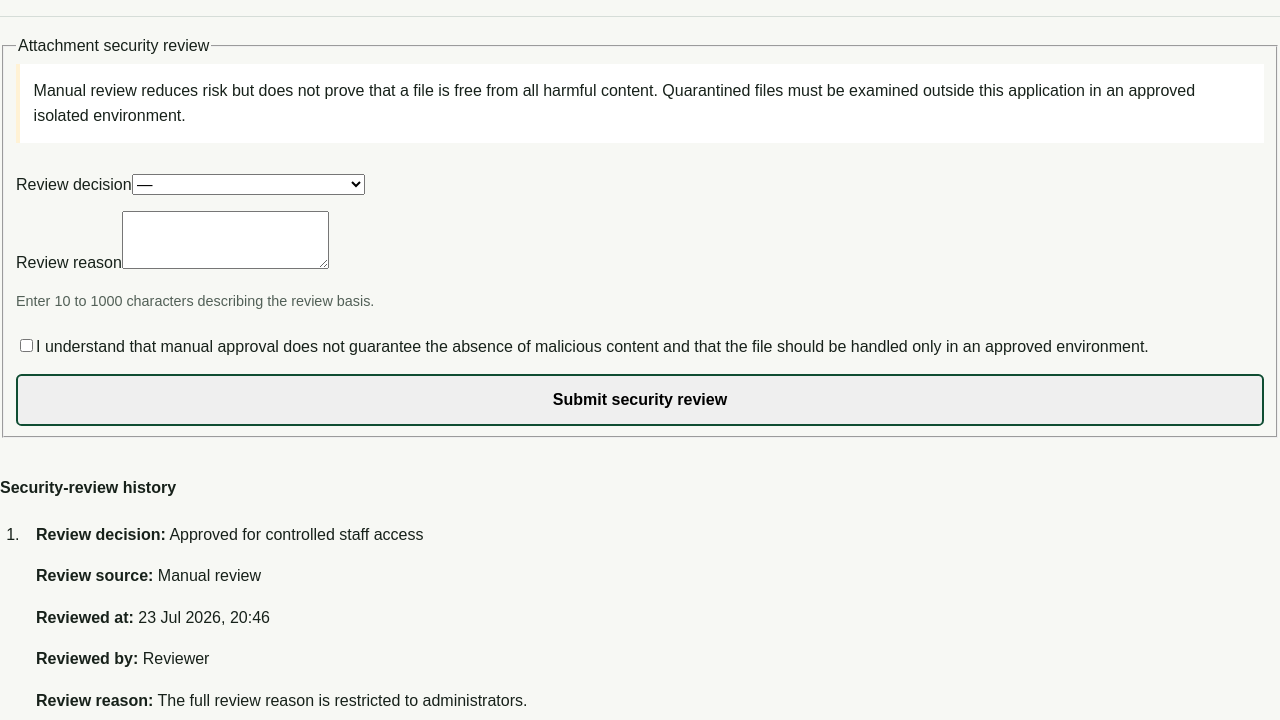
Test: attachment security-review UI › renders role-restricted history and a safe stale-version action
Expected: the text "The full review reason is restricted to administrators." is shown, [158, 692, 527, 709]
Select "Approve for controlled access" in the dropdown labelled "Review decision" at (248, 185), box [132, 174, 365, 195]
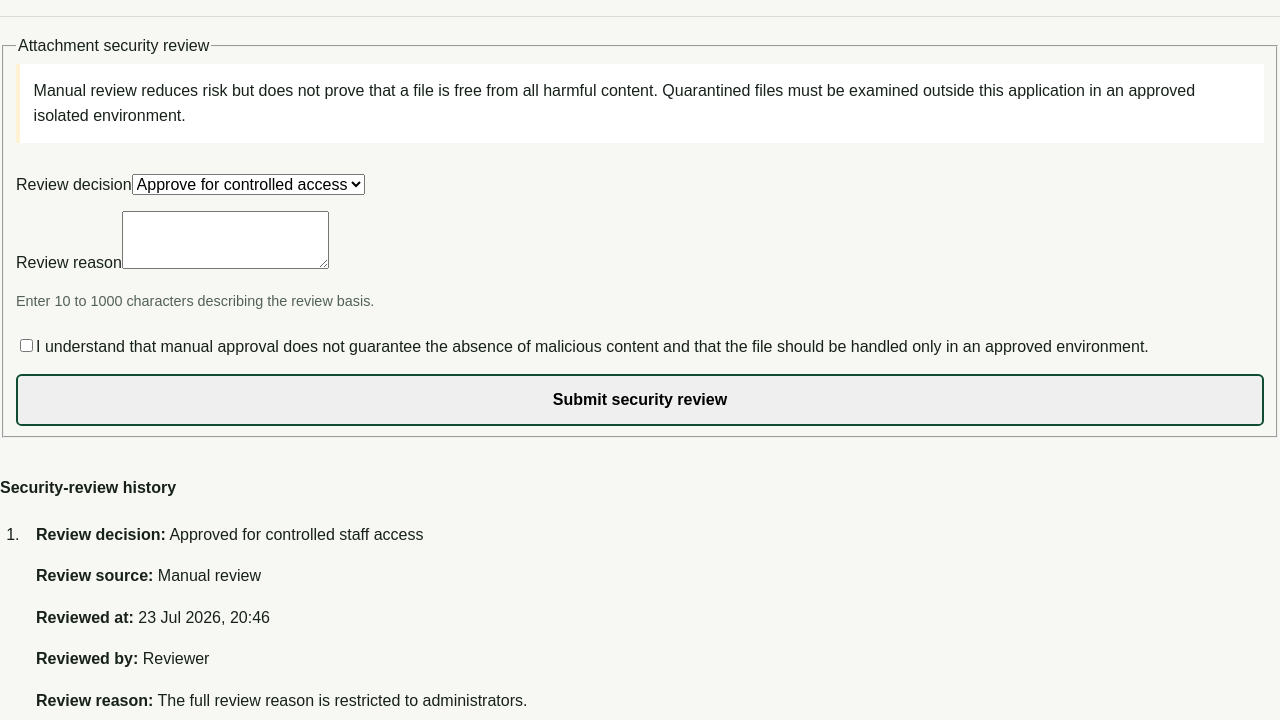
Type "Reviewed in an approved isolated environment." into the text box labelled "Review reason" at (225, 240), box [122, 211, 329, 268]
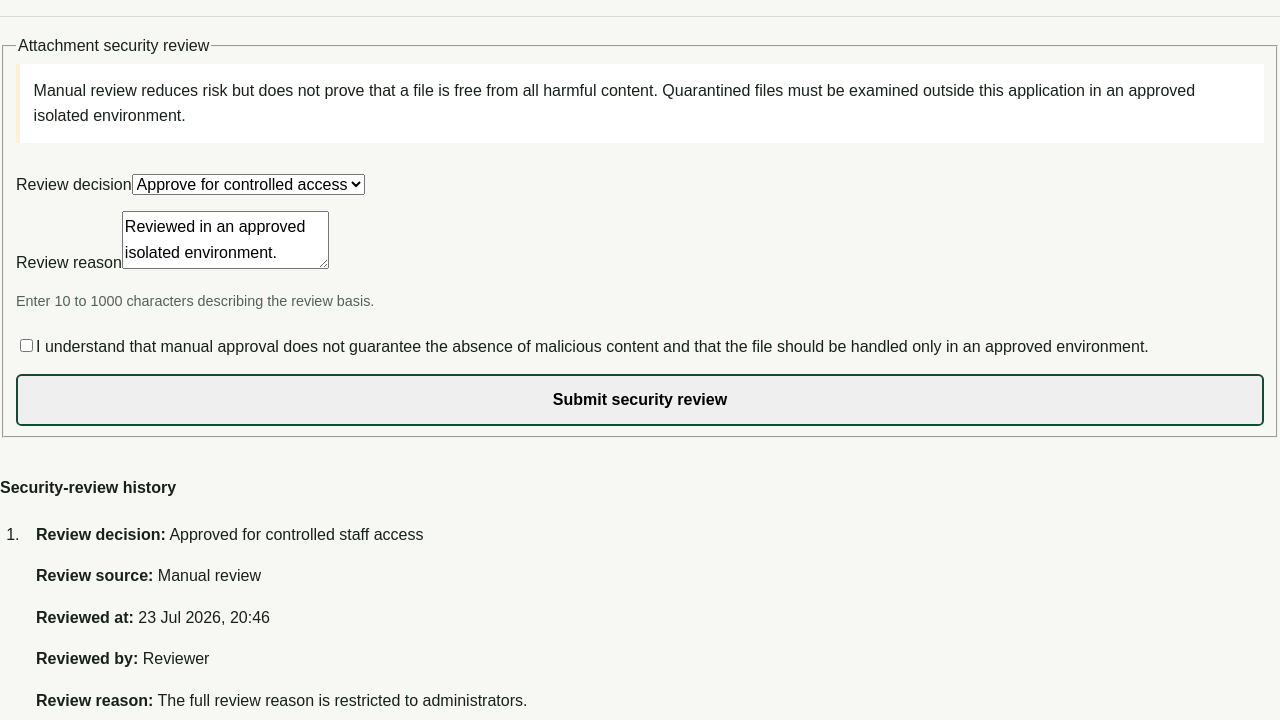
Click the checkbox labelled "manual approval does not guarantee" at (26, 346), box [20, 339, 33, 352]
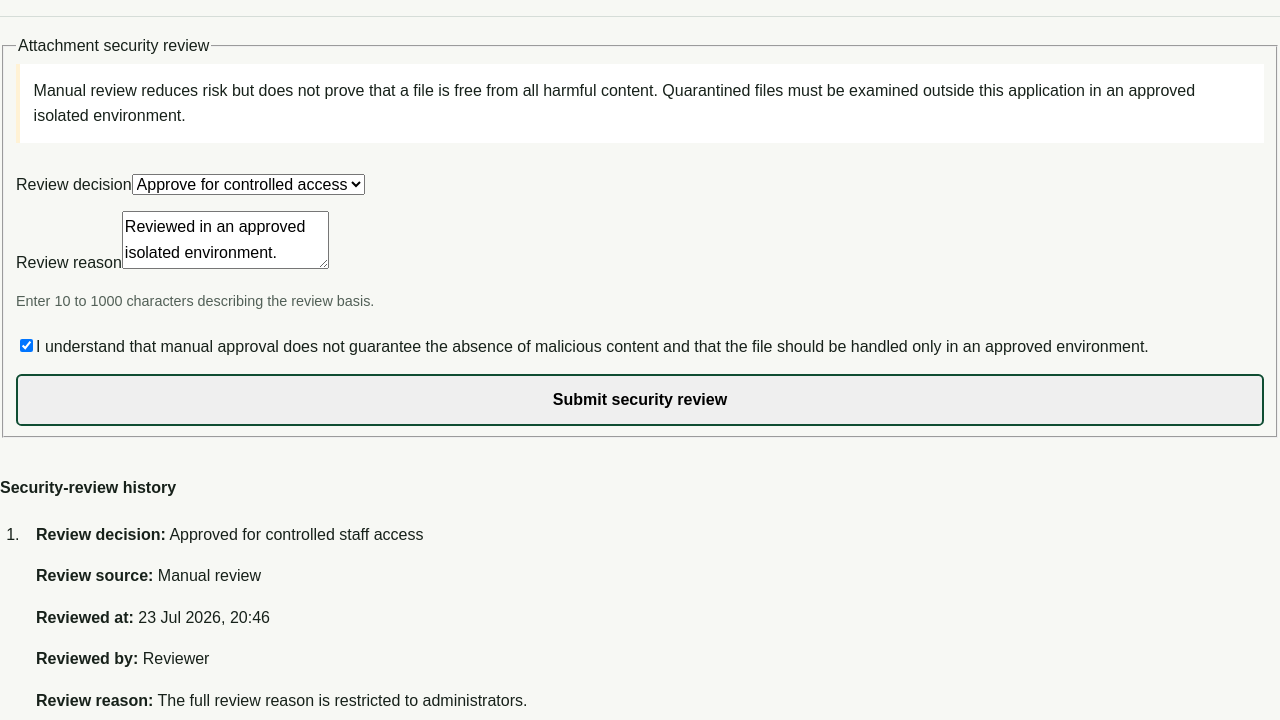
Click the button "Submit security review" at (640, 400), box [16, 374, 1264, 426]
(page scrolled)
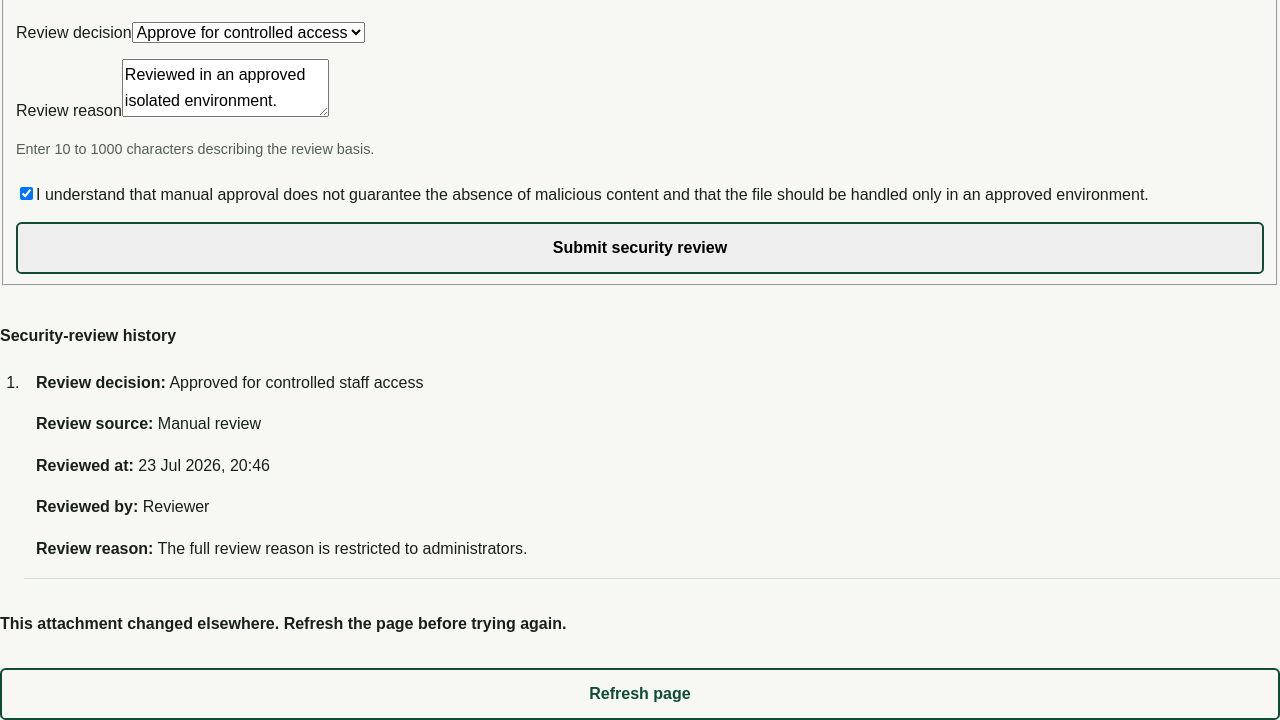
Expected: the text "changed elsewhere" is shown, [0, 615, 566, 632]
Expected: the button "Refresh page" is shown, [0, 668, 1279, 719]
